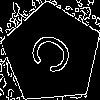C: (26, 29, 83, 83)
